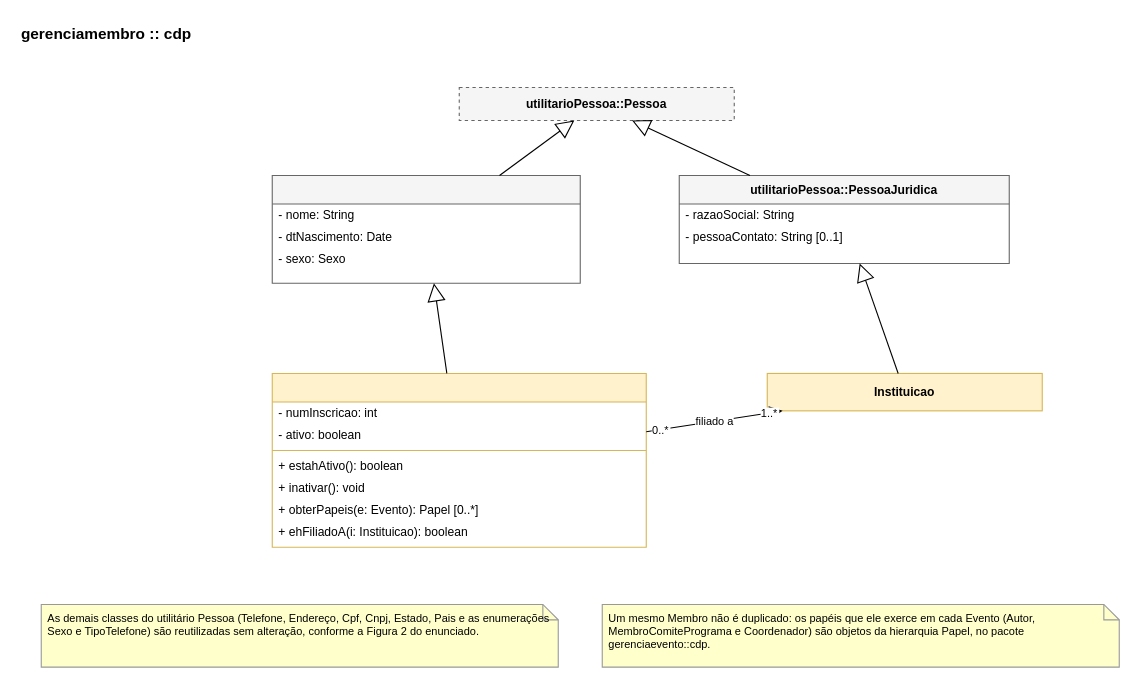
This 1139x686 diagram has some shape labels left out. The box of each missing label's shape, as (x1, y1, x2, y2) in pixels:
Membro: (271, 372, 646, 547)
utilitarioPessoa::PessoaFisica: (271, 174, 580, 283)
